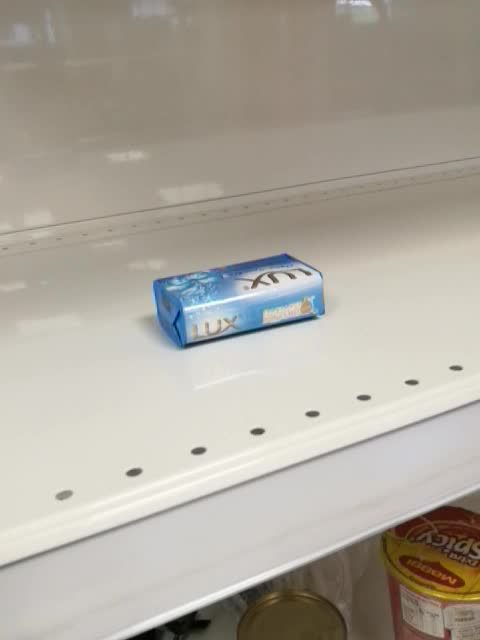soap: (151, 251, 327, 351)
